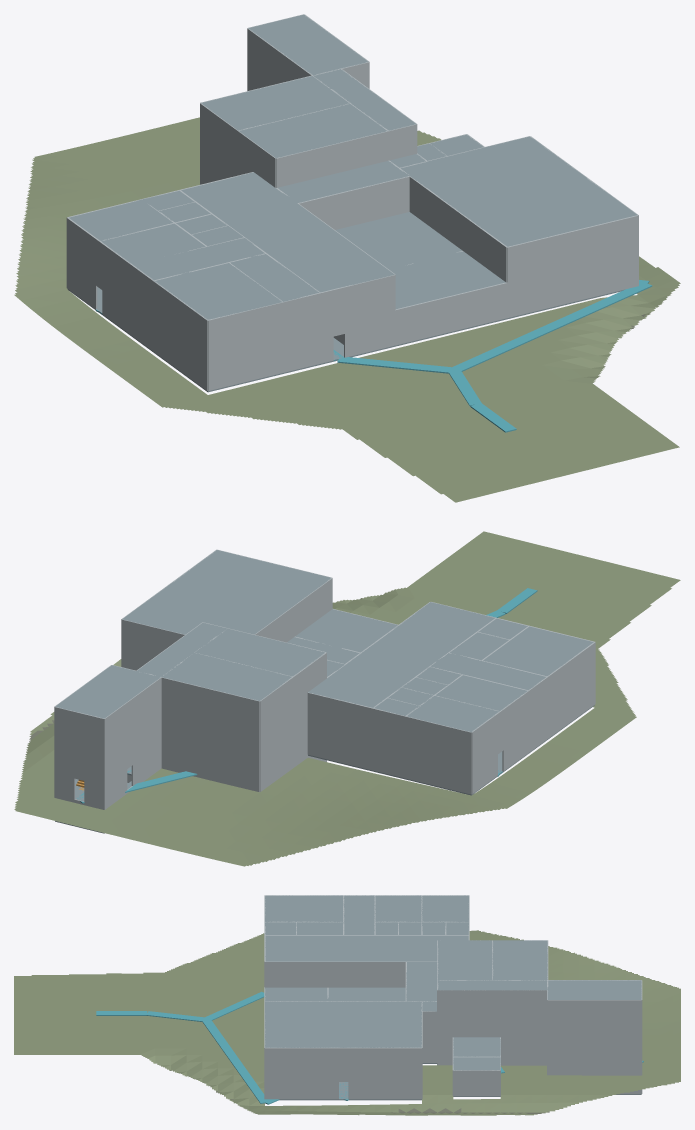
Rendered from terrain-assembly.glb.
3 views of the same model, one above another, from view 1: azimuth 30°, elevation 25°; view 2: azimuth 150°, elevation 25°; view 3: azimuth 270°, elevation 25° (orthographic). The views are drawn at different scales.
Parts seen in each view (by area): view 1: Saved editor macroterrain MANSION, Ceiling cap ballroom, Ceiling cap gallery, Wall ballroom S, Ceiling cap archive, Ceiling cap attic-store, Wall morning S, Wall drawing S, Ceiling cap dining, Ceiling cap suite-bed, Ceiling cap morning, Ceiling cap attic-stair (+30 smaller); view 2: Saved editor macroterrain MANSION, Ceiling cap ballroom, Ceiling cap gallery, Ceiling cap archive, Ceiling cap attic-store, Wall library N, Ceiling cap suite-bed, Ceiling cap attic-stair, Wall archive N, Ceiling cap morning, Wall guest-a N, Wall gallery N (+37 smaller); view 3: Saved editor macroterrain MANSION, Ceiling cap ballroom, Ceiling cap gallery, Wall ballroom E, Wall ballroom E.001, Wall gallery E.001, Wall upper-service E, Wall upper-service-stair E, Wall service-stair E, Wall attic-passage E, Ceiling cap archive, Ceiling cap attic-store (+21 smaller).
Part boxes in pixels (x1=…): Saved editor macroterrain MANSION: x1=14, y1=117, x2=680, y2=502; Ceiling cap ballroom: x1=401, y1=136, x2=637, y2=246; Ceiling cap gallery: x1=181, y1=172, x2=394, y2=292; Wall ballroom S: x1=507, y1=215, x2=638, y2=317; Ceiling cap archive: x1=201, y1=76, x2=349, y2=130; Ceiling cap attic-store: x1=239, y1=104, x2=387, y2=158; Wall morning S: x1=395, y1=282, x2=507, y2=345; Wall drawing S: x1=208, y1=328, x2=320, y2=390; Ceiling cap dining: x1=335, y1=212, x2=462, y2=269; Ceiling cap suite-bed: x1=154, y1=263, x2=281, y2=319; Ceiling cap morning: x1=389, y1=251, x2=505, y2=309; Ceiling cap attic-stair: x1=248, y1=14, x2=368, y2=75; Saved editor macroterrain MANSION: x1=14, y1=531, x2=680, y2=866; Ceiling cap ballroom: x1=122, y1=550, x2=330, y2=634; Ceiling cap gallery: x1=308, y1=602, x2=494, y2=707; Ceiling cap archive: x1=162, y1=653, x2=291, y2=700; Ceiling cap attic-store: x1=195, y1=628, x2=324, y2=676; Wall library N: x1=372, y1=739, x2=471, y2=794; Ceiling cap suite-bed: x1=483, y1=626, x2=593, y2=676; Ceiling cap attic-stair: x1=55, y1=665, x2=160, y2=718; Wall archive N: x1=161, y1=677, x2=259, y2=727; Ceiling cap morning: x1=295, y1=609, x2=397, y2=652; Wall guest-a N: x1=405, y1=716, x2=471, y2=763; Wall gallery N: x1=307, y1=692, x2=372, y2=739; Saved editor macroterrain MANSION: x1=14, y1=930, x2=680, y2=1115; Ceiling cap ballroom: x1=265, y1=1001, x2=421, y2=1047; Ceiling cap gallery: x1=265, y1=935, x2=468, y2=961; Wall ballroom E: x1=348, y1=1047, x2=421, y2=1099; Wall ballroom E.001: x1=265, y1=1047, x2=338, y2=1099; Wall gallery E.001: x1=265, y1=961, x2=416, y2=987; Wall upper-service E: x1=422, y1=1011, x2=546, y2=1037; Wall upper-service-stair E: x1=547, y1=1021, x2=641, y2=1047; Wall service-stair E: x1=547, y1=1047, x2=641, y2=1072; Wall attic-passage E: x1=437, y1=990, x2=546, y2=1011; Ceiling cap archive: x1=492, y1=940, x2=547, y2=980; Ceiling cap attic-store: x1=437, y1=940, x2=492, y2=980.
Bounding box in the file's own units: 55 × 13.36 × 85.
